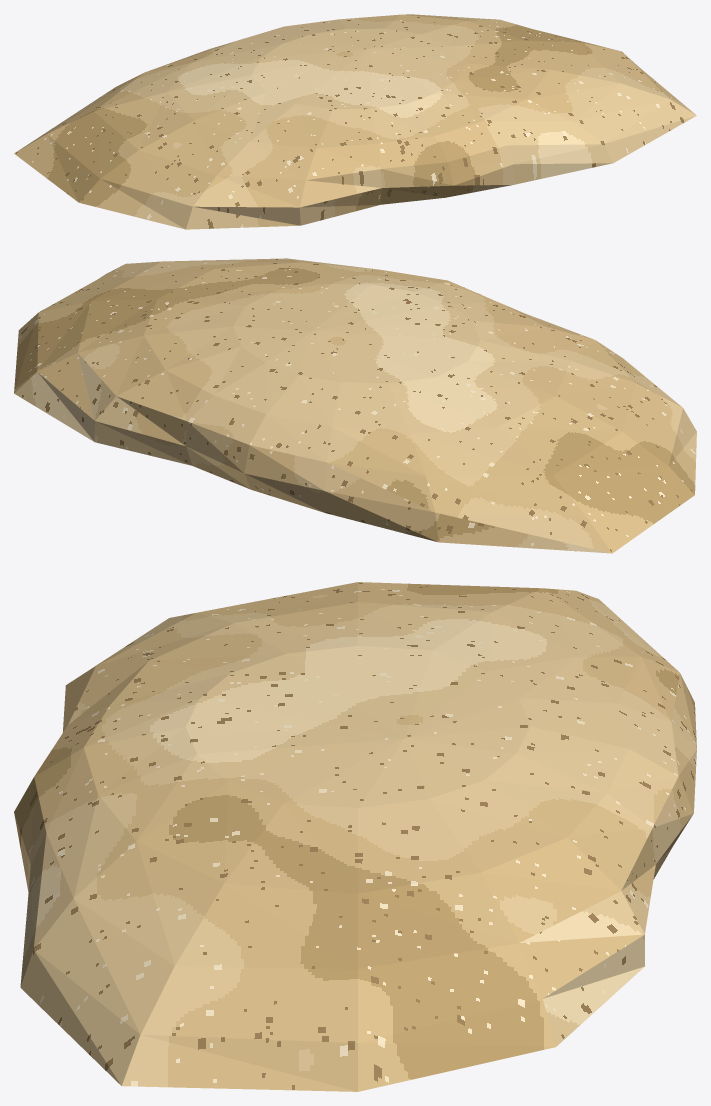
The model's file is island-v2-4.glb.
The picture shows the model from 3 angles, top to bottom: view 1: azimuth 30°, elevation 25°; view 2: azimuth 150°, elevation 25°; view 3: azimuth 270°, elevation 25°; orthographic projection. The views are drawn at different scales.
Parts seen in each view (by area): view 1: Island-4; view 2: Island-4; view 3: Island-4.
Boxes of the visible parts, <box> form: Island-4: <box>14,14,696,229</box>; Island-4: <box>14,258,696,553</box>; Island-4: <box>14,582,696,1091</box>.
Size of the model in its own units: 6.68 by 0.8048 by 3.9.
1 material, 1 textured.
